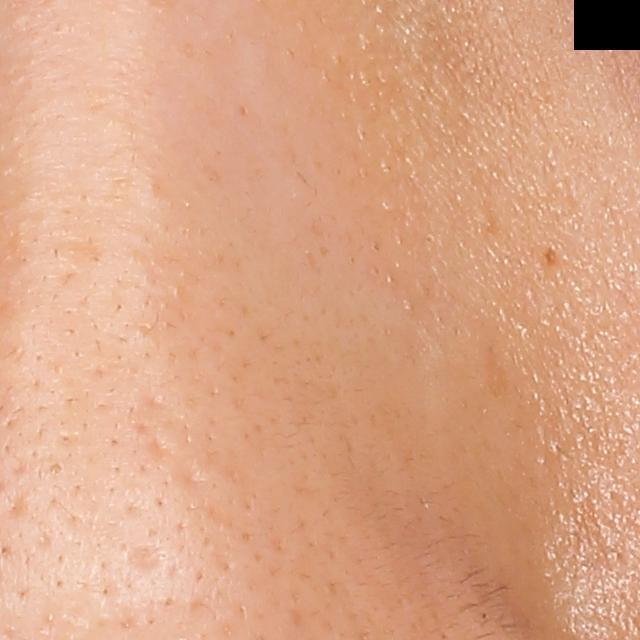atrophic_scar: (124, 542, 168, 572), (149, 437, 172, 463)
